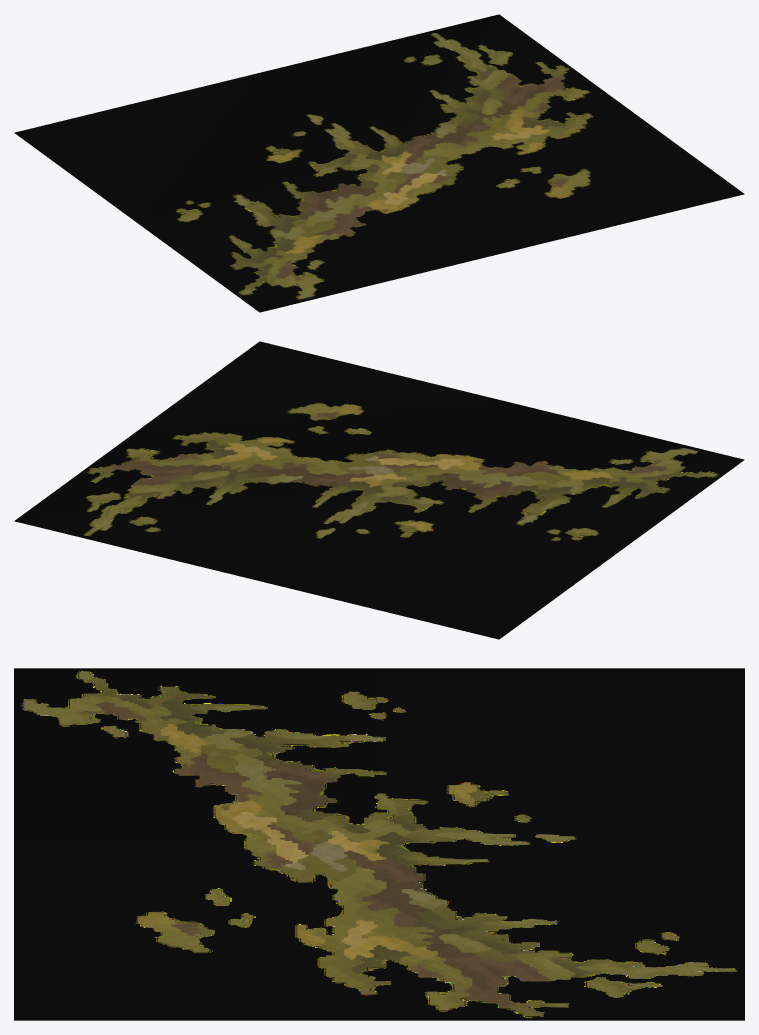
The model's file is SM_D06_MossLong.fbx.
3 renders of one model, top to bottom at view 1: azimuth 30°, elevation 25°; view 2: azimuth 150°, elevation 25°; view 3: azimuth 270°, elevation 25°, orthographic. The views are drawn at different scales.
Parts seen in each view (by area): view 1: D06_Decal; view 2: D06_Decal; view 3: D06_Decal.
Part boxes in pixels (<box>): D06_Decal: <box>14,14,744,312</box>; D06_Decal: <box>14,341,744,639</box>; D06_Decal: <box>14,668,744,1020</box>.
Bounding box in the file's own units: 1 × 0.008 × 0.8772.
